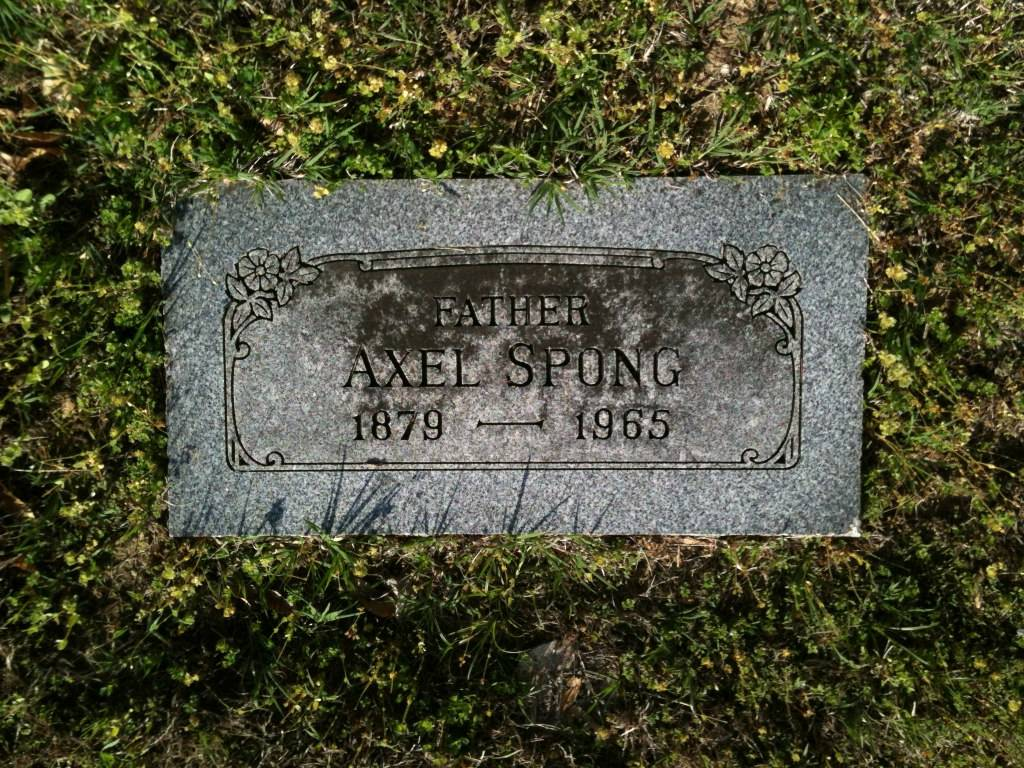flat: (143, 151, 874, 568)
